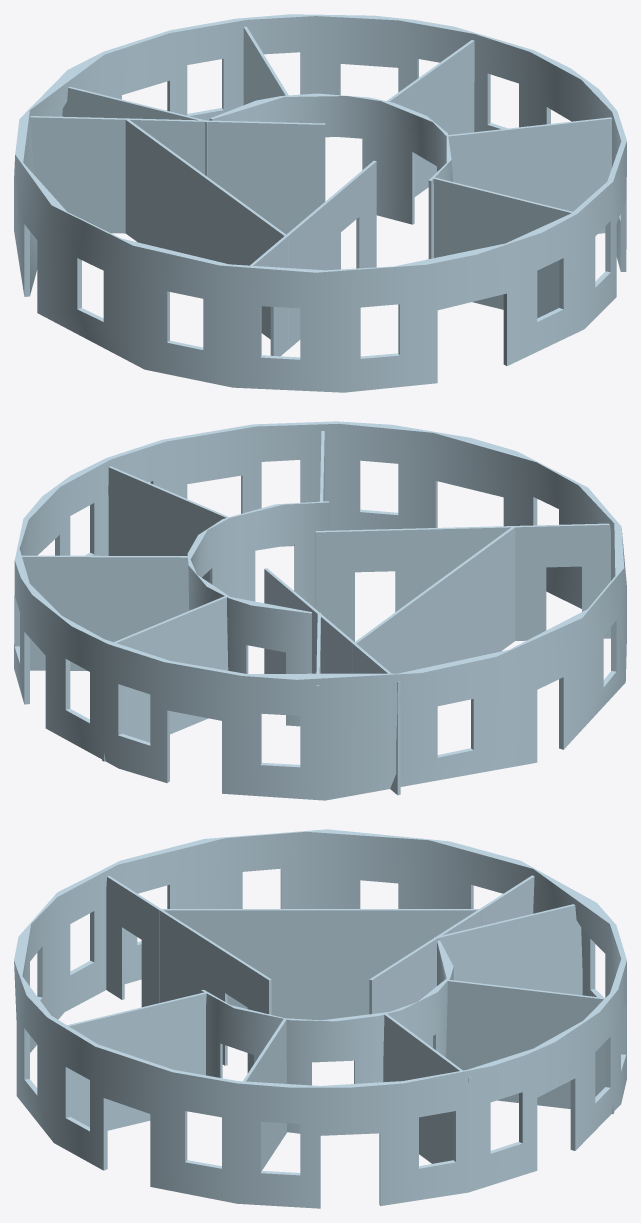
The model's file is floor_walls_lod2.glb.
3 renders of one model, top to bottom at view 1: azimuth 30°, elevation 25°; view 2: azimuth 150°, elevation 25°; view 3: azimuth 270°, elevation 25°, orthographic.
Parts seen in each view (by area): view 1: Facade 0, Radial demise wall (×5), Core tangent wall, Bedroom-bath wall, Corridor wall 0, Living-bedroom separator (×3); view 2: Facade 0, Radial demise wall (×3), Living-bedroom separator (×5), Corridor wall 0, Bedroom-bath wall, Core tangent wall; view 3: Facade 0, Radial demise wall (×5), Bedroom-bath wall, Corridor wall 0, Living-bedroom separator (×5), Core tangent wall.
Boxes of the visible parts, x1,y1,x2,y2 form: Facade 0: (14, 14, 626, 392); Radial demise wall (×5): (62, 26, 611, 318); Core tangent wall: (30, 116, 325, 234); Bedroom-bath wall: (125, 119, 288, 349); Corridor wall 0: (209, 93, 452, 258); Living-bedroom separator (×3): (270, 160, 376, 356); Facade 0: (14, 421, 626, 800); Radial demise wall (×3): (22, 466, 229, 761); Living-bedroom separator (×5): (315, 523, 610, 641); Corridor wall 0: (187, 501, 329, 726); Bedroom-bath wall: (352, 527, 515, 673); Core tangent wall: (264, 568, 400, 795); Facade 0: (14, 829, 626, 1208); Radial demise wall (×5): (67, 904, 614, 1170); Bedroom-bath wall: (159, 909, 481, 1020); Corridor wall 0: (201, 940, 453, 1133); Living-bedroom separator (×5): (106, 875, 271, 1073); Core tangent wall: (369, 875, 534, 1047).
Bounding box in the file's own units: 15.14 × 3.28 × 15.14.
